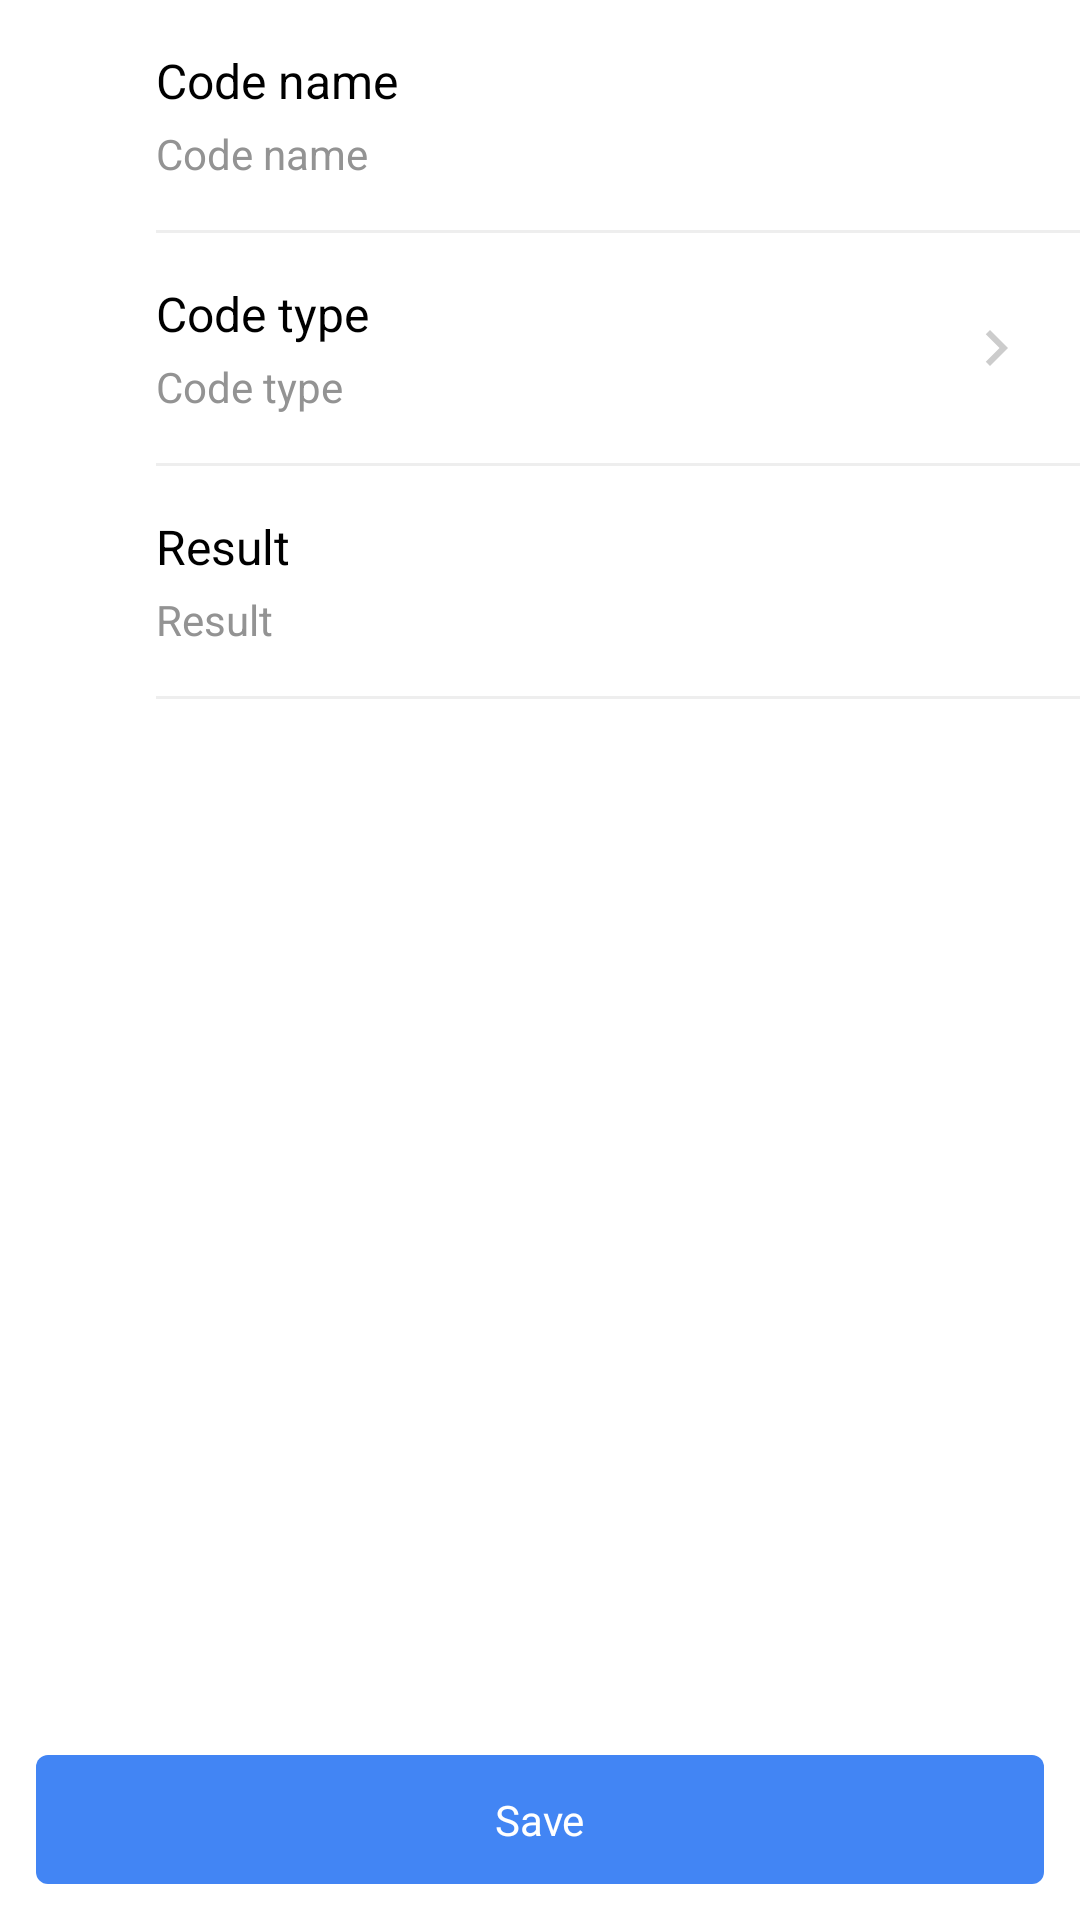

Where to tap for icons on this 1080 × 1920 app screen, as (x=x, y=y):
arrow settings: (x=997, y=348)
